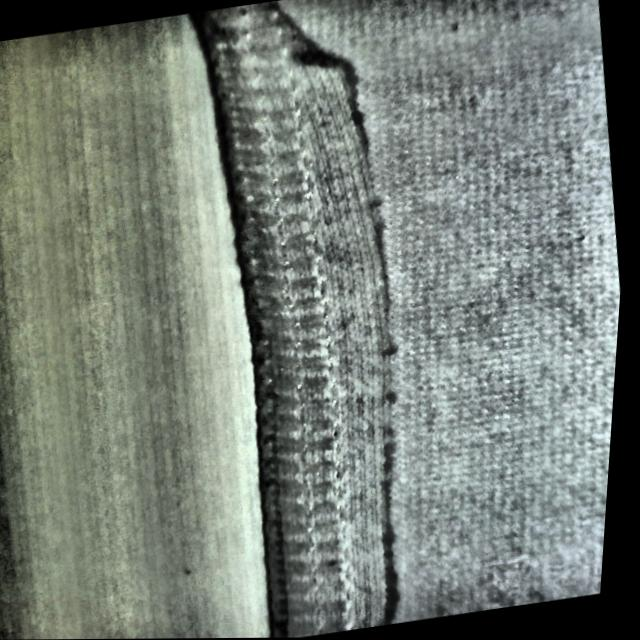seam: (183, 22, 495, 639)
